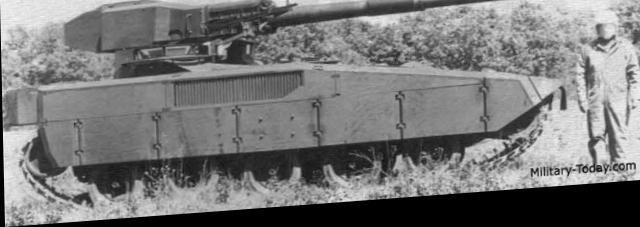other: (571, 12, 637, 173)
tank: (8, 0, 566, 209)
